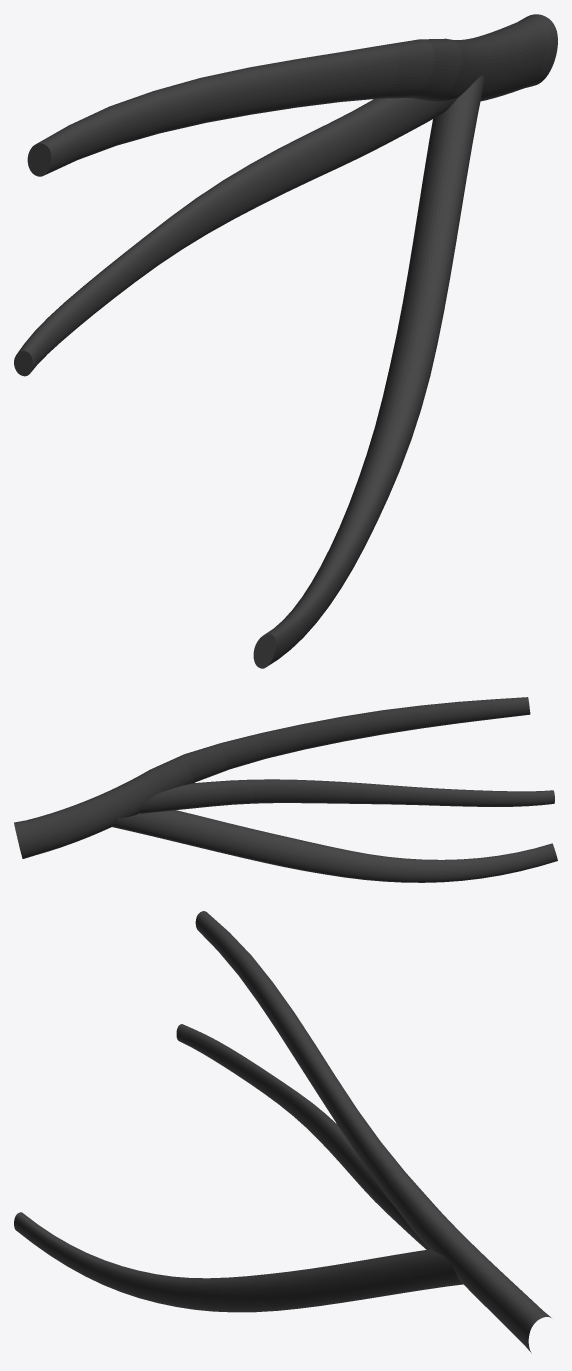
The model's file is N_3_oculomotor_ventral_ramus.glb.
3 renders of one model, top to bottom at view 1: azimuth 30°, elevation 25°; view 2: azimuth 150°, elevation 25°; view 3: azimuth 270°, elevation 25°, orthographic. The views are drawn at different scales.
Parts seen in each view (by area): view 1: N_3_oculomotor_ventral_ramus; view 2: N_3_oculomotor_ventral_ramus; view 3: N_3_oculomotor_ventral_ramus.
Part boxes in pixels (x1,y1,x2,y2): N_3_oculomotor_ventral_ramus: (14,14,557,668); N_3_oculomotor_ventral_ramus: (14,697,557,882); N_3_oculomotor_ventral_ramus: (14,911,551,1353).
Bounding box in the file's own units: 0.0123 × 0.00681 × 0.0109.
1 material, 1 textured.
